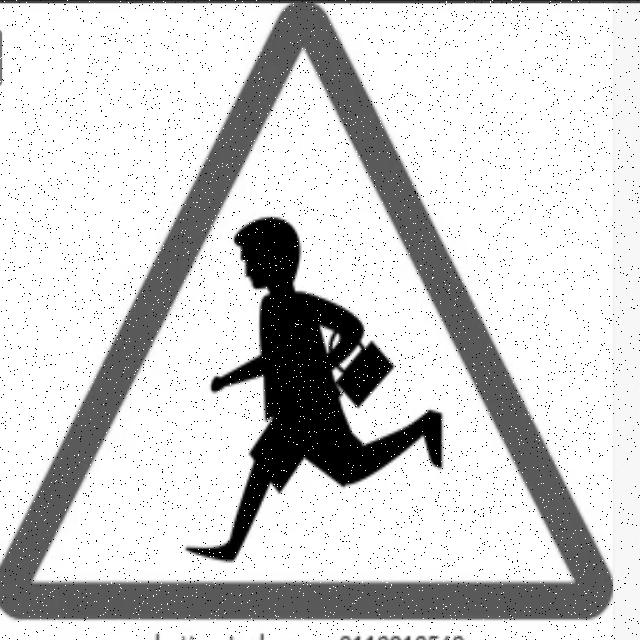school_ahead: (0, 0, 611, 613)
